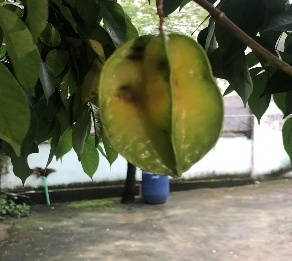Khe: (96, 32, 226, 180)
